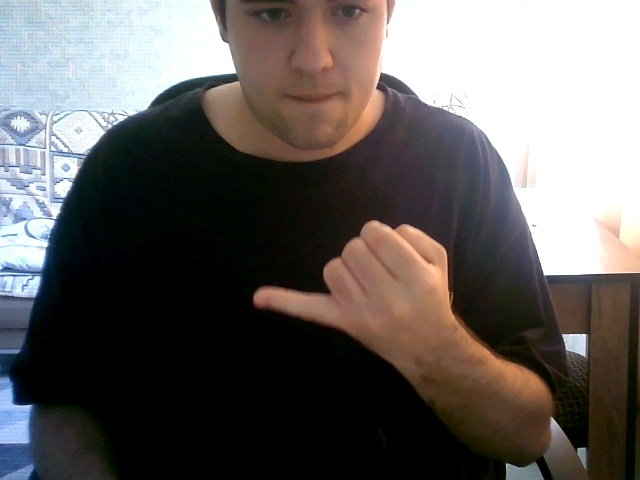bad: (237, 194, 482, 355)
